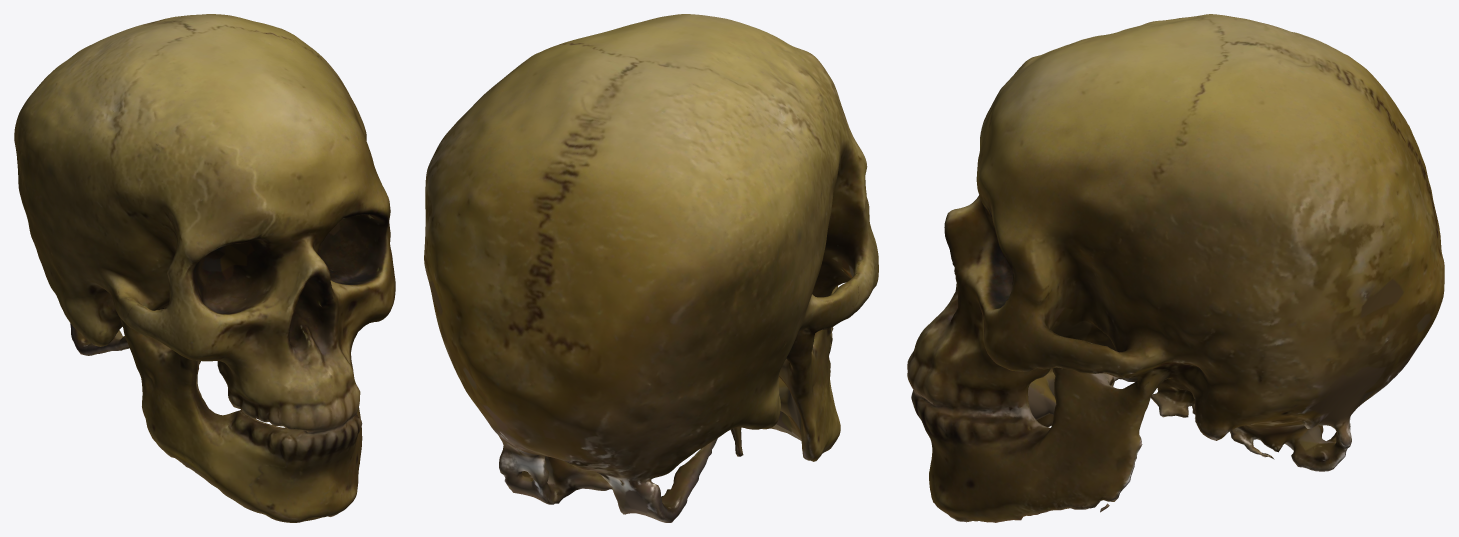
The picture shows the model from 3 angles, left to right: view 1: azimuth 30°, elevation 25°; view 2: azimuth 150°, elevation 25°; view 3: azimuth 270°, elevation 25°; orthographic projection. The views are drawn at different scales.
Visible parts, largest first — view 1: Mesh_0_Part_lp_0; view 2: Mesh_0_Part_lp_0; view 3: Mesh_0_Part_lp_0.
Boxes of the visible parts, left/top/right/bottom form: Mesh_0_Part_lp_0: left=14, top=14, right=395, bottom=522; Mesh_0_Part_lp_0: left=424, top=14, right=878, bottom=522; Mesh_0_Part_lp_0: left=907, top=14, right=1444, bottom=522.
Bounding box in the file's own units: 12.59 × 16.62 × 17.56.
Materials: 1 (1 with a texture image).
